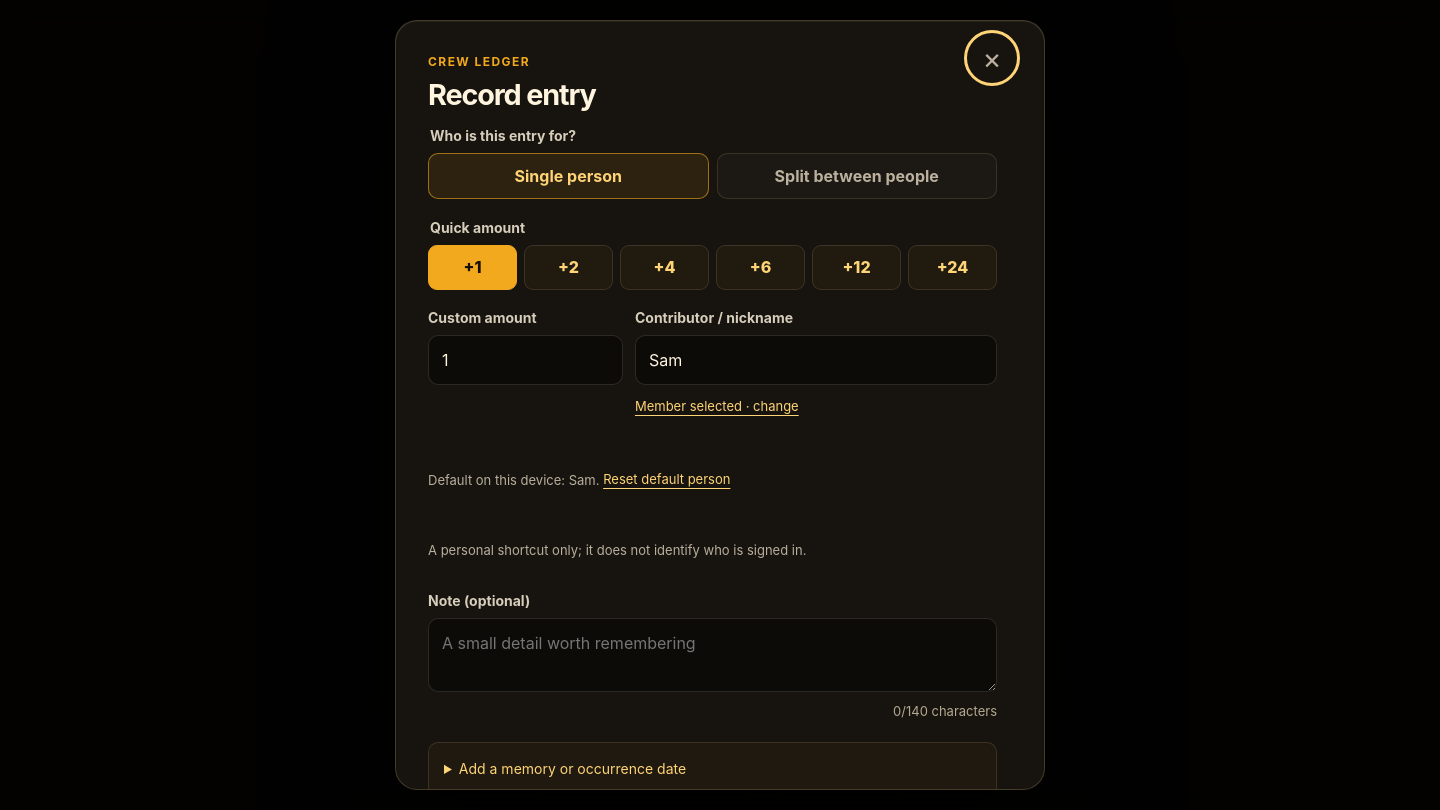
durable modal recovery › uses the explicitly remembered default and provides reset
Expected: the field labelled "Contributor / nickname" holds "Sam", [635,334,997,384]
Click the button "Reset default person" at (667, 480), box [603,458,730,502]
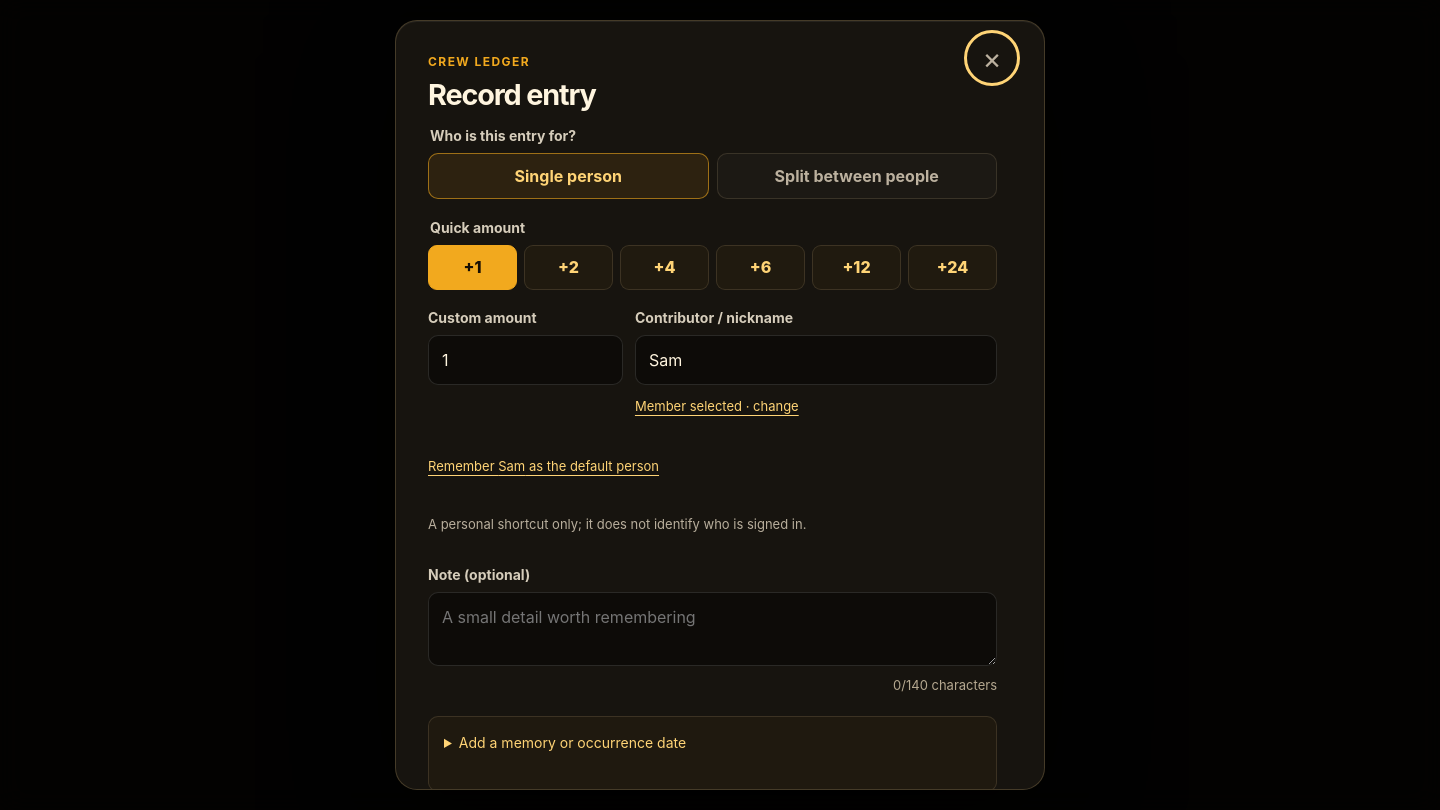
Expected: the field labelled "Contributor / nickname" holds "Sam", [635,334,997,384]
Expected: the button "Reset default person" is gone
